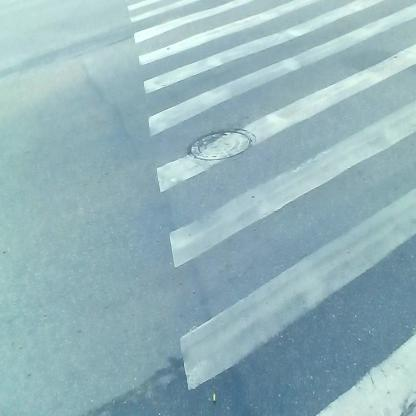crosswalk: (125, 7, 416, 407)
